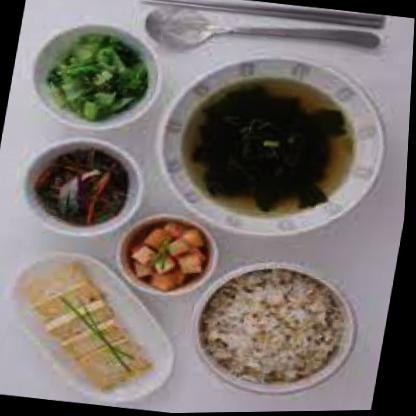radish Kimchi: (118, 214, 223, 302)
rice ball: (194, 261, 363, 400)
seaweed: (170, 66, 373, 228)
